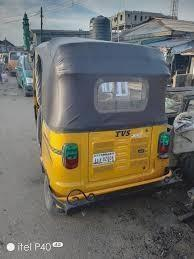keke: (33, 41, 179, 222)
